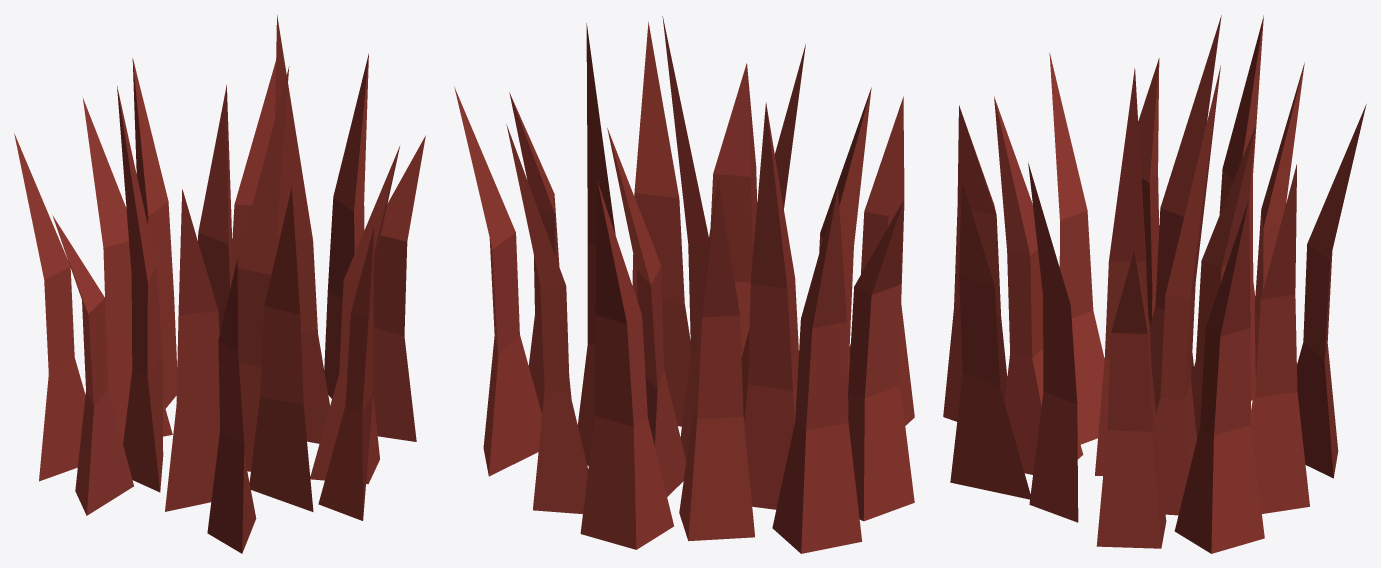
File: Grass_2_Red.fbx
3 renders of one model, left to right at view 1: azimuth 30°, elevation 25°; view 2: azimuth 150°, elevation 25°; view 3: azimuth 270°, elevation 25°, orthographic. The views are drawn at different scales.
Parts seen in each view (by area): view 1: Grass_2_Red; view 2: Grass_2_Red; view 3: Grass_2_Red.
Boxes of the visible parts, x1=… form: Grass_2_Red: x1=14, y1=15, x2=425, y2=553; Grass_2_Red: x1=454, y1=16, x2=914, y2=553; Grass_2_Red: x1=943, y1=15, x2=1366, y2=553.
Size of the model in its own units: 45.15 by 48.36 by 42.27.
